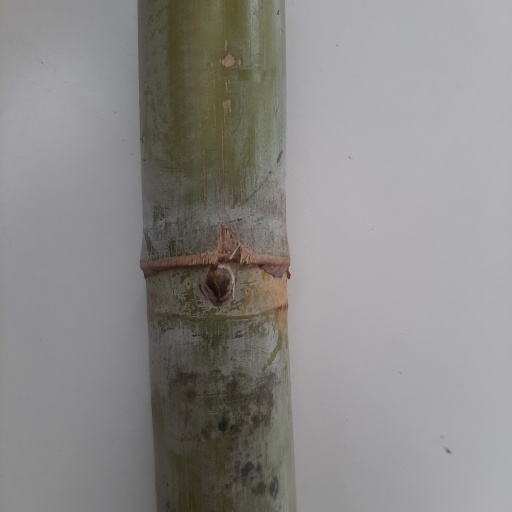Bud: (201, 267, 235, 305)
